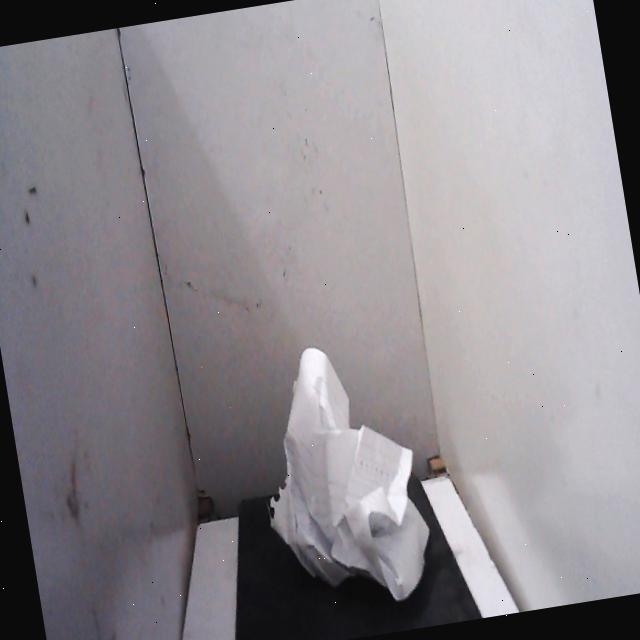papel: (240, 324, 444, 628)
